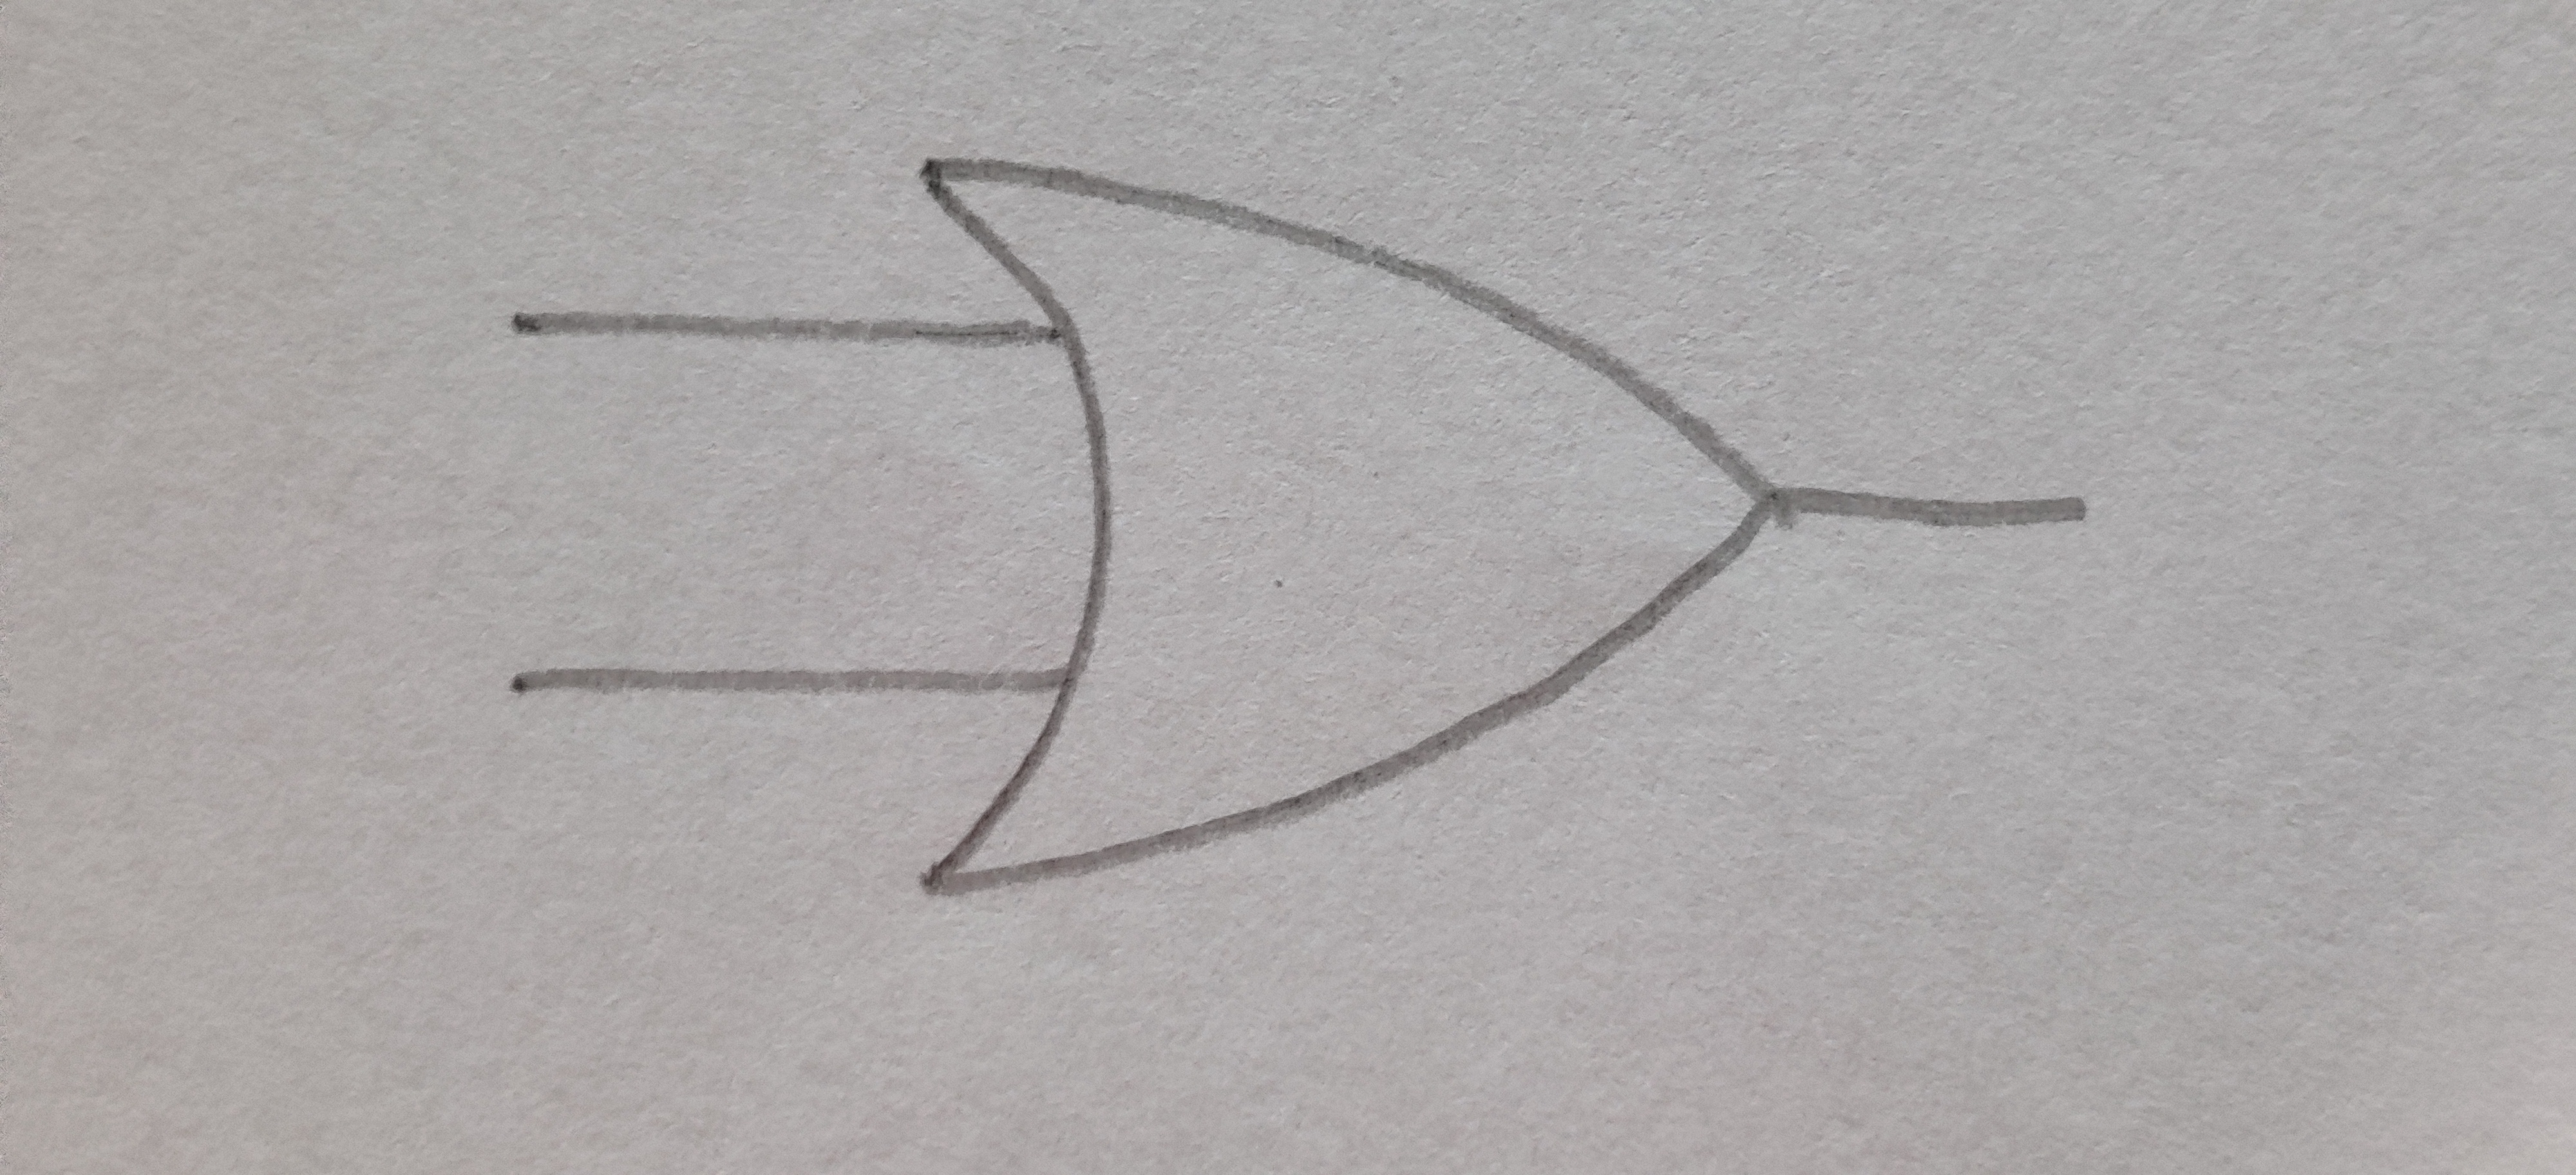or: (918, 154, 1782, 897)
